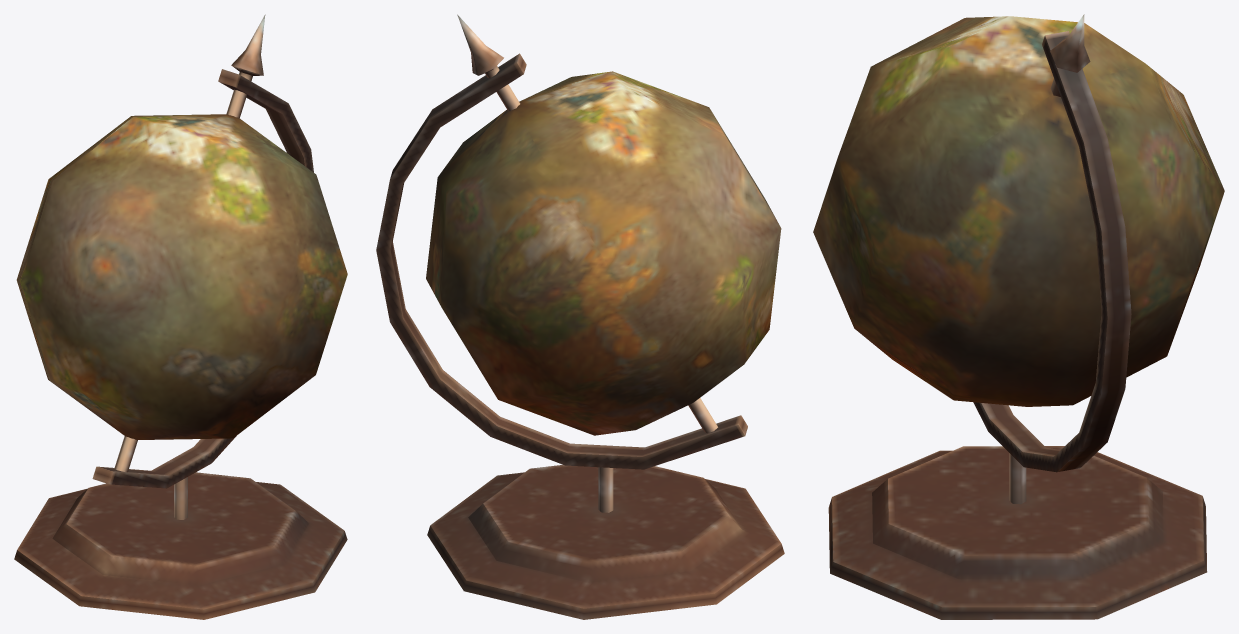
File: Globe.fbx
3 renders of one model, left to right at view 1: azimuth 30°, elevation 25°; view 2: azimuth 150°, elevation 25°; view 3: azimuth 270°, elevation 25°, orthographic. The views are drawn at different scales.
Parts seen in each view (by area): view 1: Globe; view 2: Globe; view 3: Globe.
Part boxes in pixels (x1,y1,x2,y2): Globe: [14, 14, 347, 619]; Globe: [376, 14, 784, 619]; Globe: [813, 14, 1224, 619].
Bounding box in the file's own units: 12 × 17.63 × 11.11.
1 material, 1 textured.
